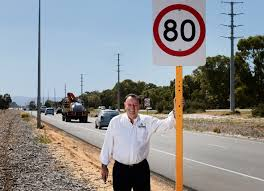Speed_limit_80km: (152, 4, 206, 57)
